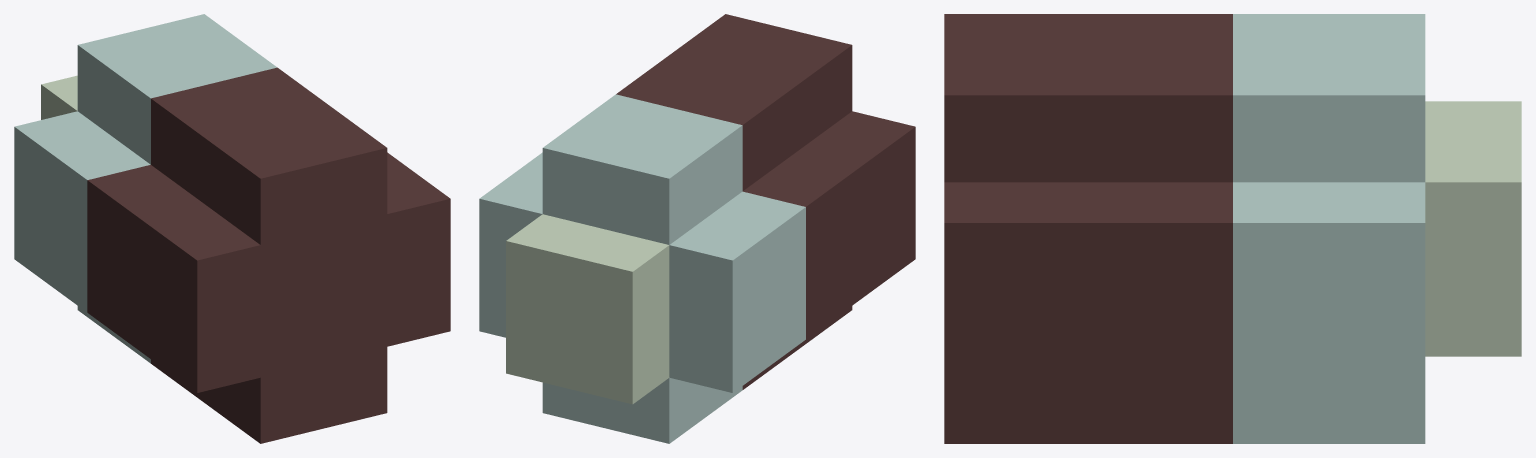
The model's file is Jar_Tall_Red-9.obj.
3 views of the same model, side by side, from view 1: azimuth 30°, elevation 25°; view 2: azimuth 150°, elevation 25°; view 3: azimuth 270°, elevation 25° (orthographic). The views are drawn at different scales.
Parts seen in each view (by area): view 1: Jar_Tall_Red-9; view 2: Jar_Tall_Red-9; view 3: Jar_Tall_Red-9.
Boxes of the visible parts, <box> form: Jar_Tall_Red-9: <box>14,14,450,443</box>; Jar_Tall_Red-9: <box>479,14,915,443</box>; Jar_Tall_Red-9: <box>944,14,1521,443</box>.
Bounding box in the file's own units: 0.08 × 0.08 × 0.12.
